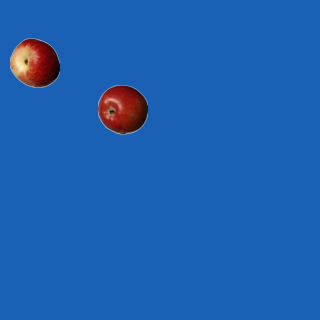Apple Braeburn: (97, 84, 147, 134)
Nectarine: (9, 37, 59, 87)
